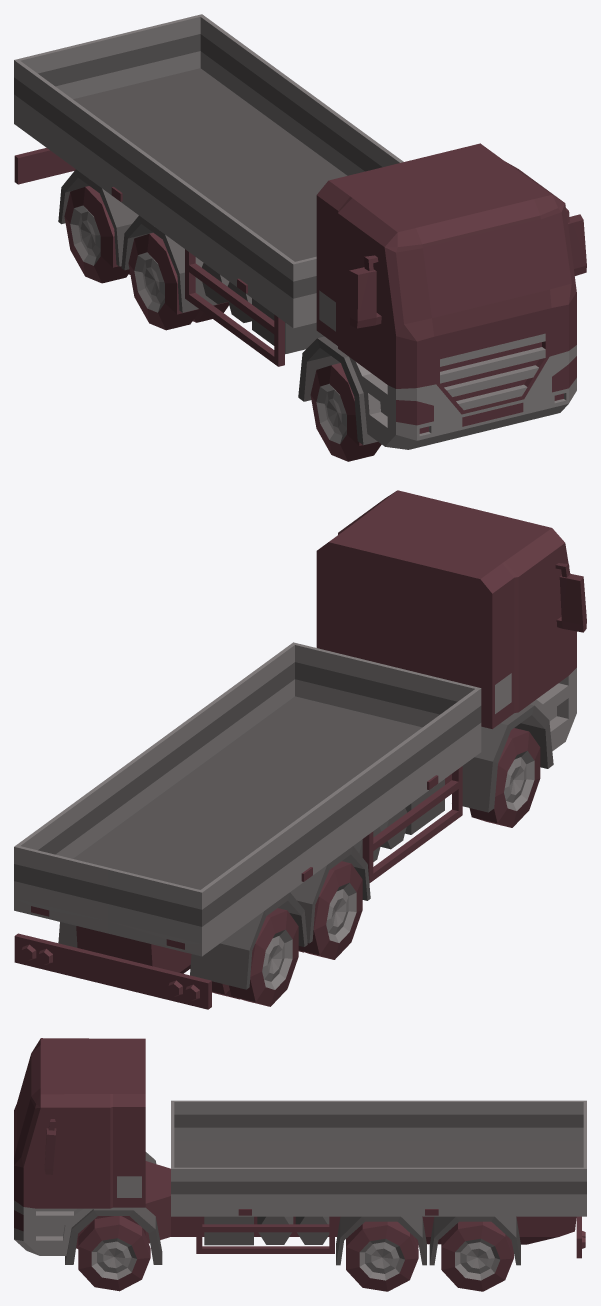
The model's file is car-truck-cargo.fbx.
3 views of the same model, one above another, from view 1: azimuth 30°, elevation 25°; view 2: azimuth 150°, elevation 25°; view 3: azimuth 270°, elevation 25° (orthographic). The views are drawn at different scales.
Visible parts, largest first — view 1: car-truck-cargo-base, car-truck-cargo-wheel_BR1, car-truck-cargo-wheel_BR2, car-truck-cargo-wheel_FR; view 2: car-truck-cargo-base, car-truck-cargo-wheel_BR2, car-truck-cargo-wheel_BR1, car-truck-cargo-wheel_FR; view 3: car-truck-cargo-base, car-truck-cargo-wheel_FL, car-truck-cargo-wheel_BL1, car-truck-cargo-wheel_BL2.
Boxes of the visible parts, left/top/right/bottom form: car-truck-cargo-base: left=14, top=14, right=586, bottom=449; car-truck-cargo-wheel_BR1: left=128, top=232, right=228, bottom=330; car-truck-cargo-wheel_BR2: left=64, top=186, right=130, bottom=283; car-truck-cargo-wheel_FR: left=310, top=363, right=381, bottom=461; car-truck-cargo-base: left=14, top=490, right=586, bottom=1009; car-truck-cargo-wheel_BR2: left=212, top=908, right=298, bottom=1006; car-truck-cargo-wheel_BR1: left=298, top=861, right=362, bottom=959; car-truck-cargo-wheel_FR: left=469, top=728, right=540, bottom=827; car-truck-cargo-base: left=14, top=1038, right=586, bottom=1265; car-truck-cargo-wheel_FL: left=78, top=1216, right=150, bottom=1291; car-truck-cargo-wheel_BL1: left=346, top=1221, right=418, bottom=1291; car-truck-cargo-wheel_BL2: left=441, top=1221, right=513, bottom=1291.
Bounding box in the file's own units: 2.99 × 3.16 × 8.53.
